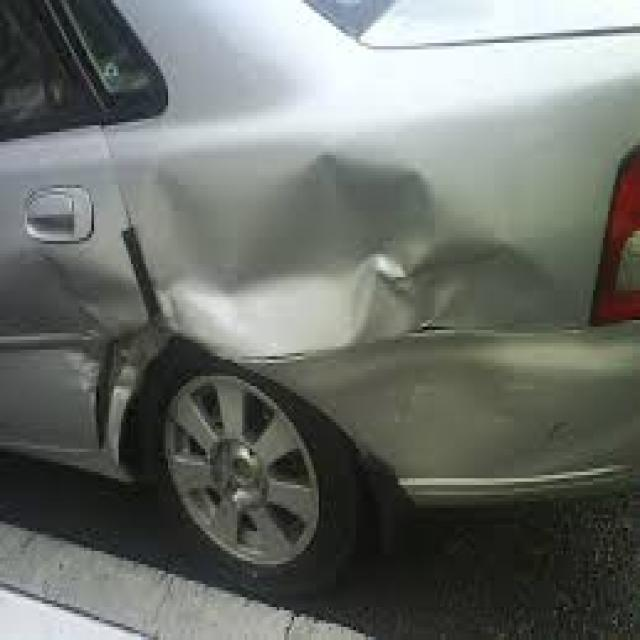minor: (26, 164, 487, 427)
